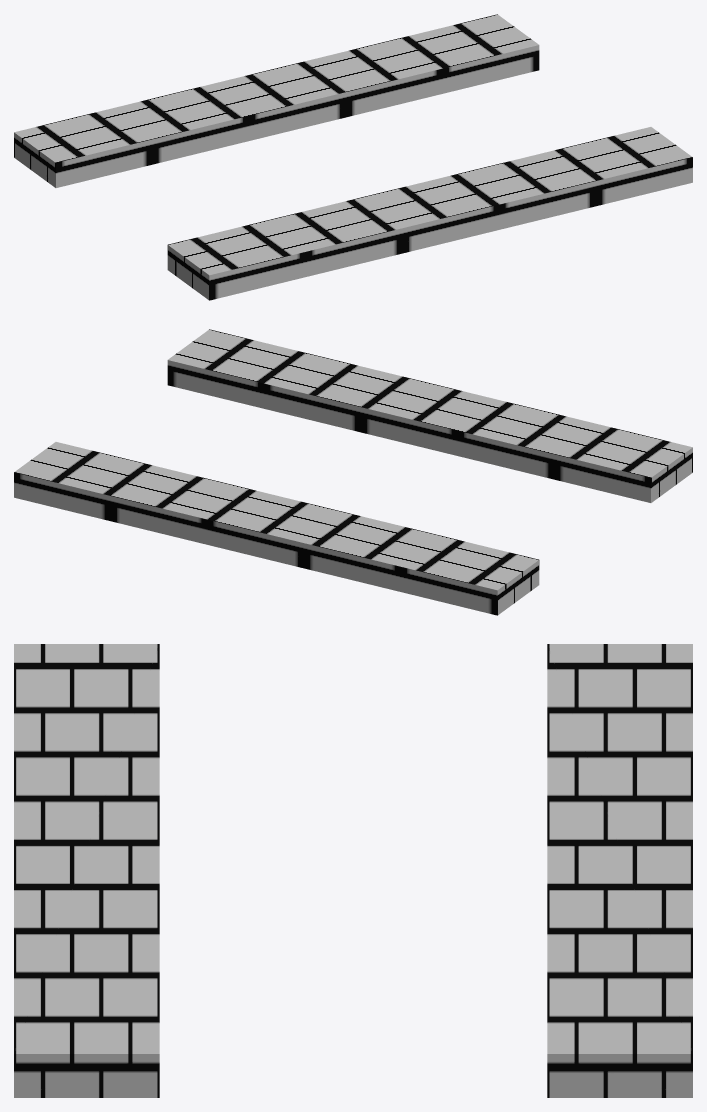
Rendered from Field_3.fbx.
The picture shows the model from 3 angles, top to bottom: view 1: azimuth 30°, elevation 25°; view 2: azimuth 150°, elevation 25°; view 3: azimuth 270°, elevation 25°; orthographic projection. The views are drawn at different scales.
Visible parts, largest first — view 1: Cube; view 2: Cube; view 3: Cube.
Part boxes in pixels (x1,y1,x2,y2): Cube: [14, 14, 692, 300]; Cube: [14, 329, 692, 615]; Cube: [14, 644, 692, 1097].
Bounding box in the file's own units: 4000 × 200 × 2800.
1 material, 1 textured.
